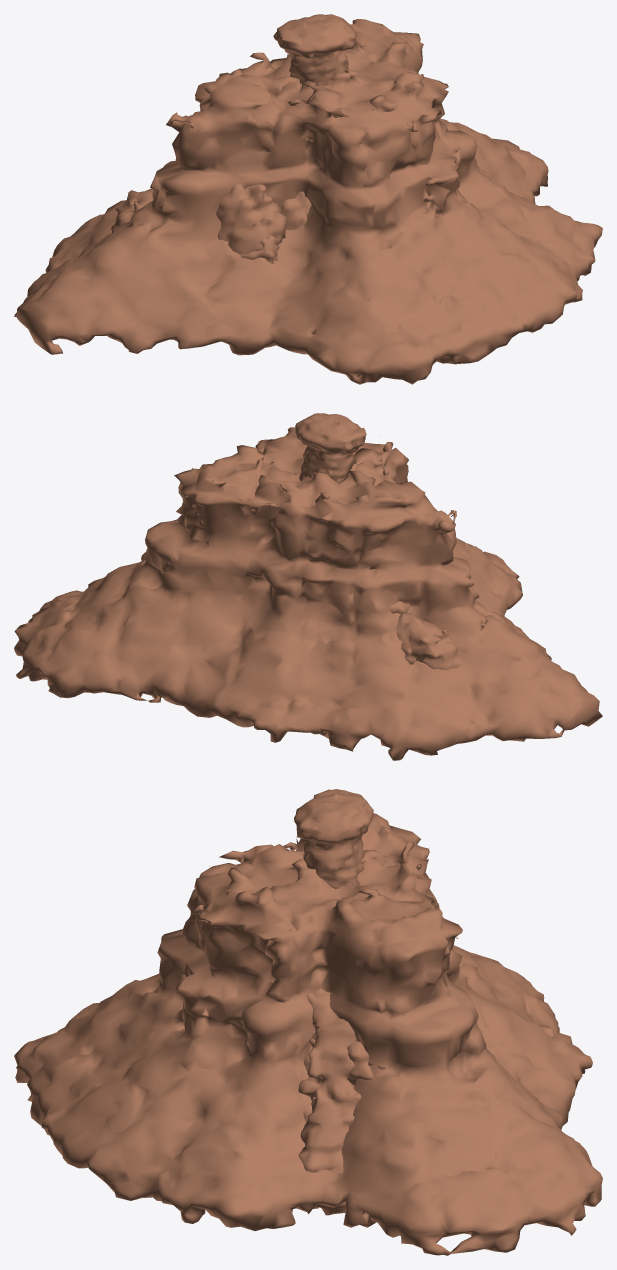
File: Formations.fbx
The picture shows the model from 3 angles, top to bottom: view 1: azimuth 30°, elevation 25°; view 2: azimuth 150°, elevation 25°; view 3: azimuth 270°, elevation 25°; orthographic projection. The views are drawn at different scales.
Parts seen in each view (by area): view 1: Butte_0, Spire_2, Mound_2, Mound_4, Mound_3; view 2: Butte_0, Spire_2, Mound_4; view 3: Butte_0, Fin_0, Spire_2, Fin_2.
Part boxes in pixels (bbox=[...]): Butte_0: bbox=[14, 19, 602, 384]; Spire_2: bbox=[273, 14, 356, 85]; Mound_2: bbox=[216, 184, 286, 254]; Mound_4: bbox=[111, 188, 279, 263]; Mound_3: bbox=[279, 191, 311, 230]; Butte_0: bbox=[14, 427, 602, 760]; Spire_2: bbox=[295, 413, 366, 483]; Mound_4: bbox=[396, 613, 462, 669]; Butte_0: bbox=[14, 813, 602, 1255]; Fin_0: bbox=[298, 993, 361, 1215]; Spire_2: bbox=[294, 789, 373, 888]; Fin_2: bbox=[303, 988, 373, 1122].
Size of what is drawn, in the model's own units: 108 by 48.19 by 84.7.
